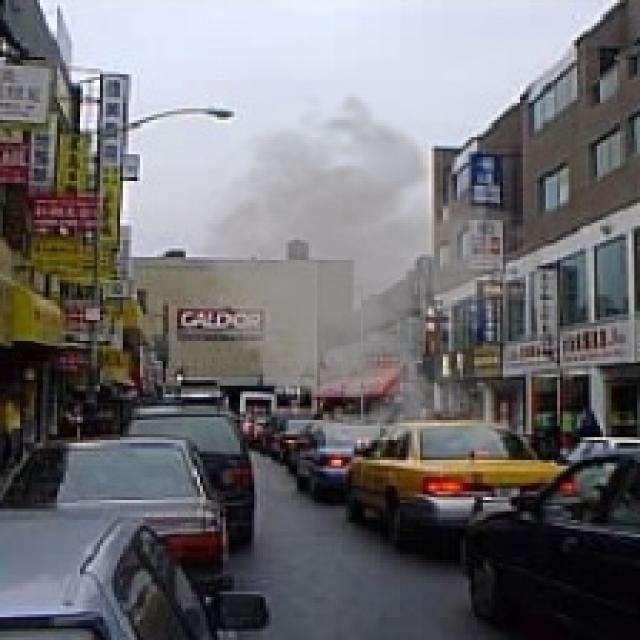smoke: (171, 91, 580, 463)
